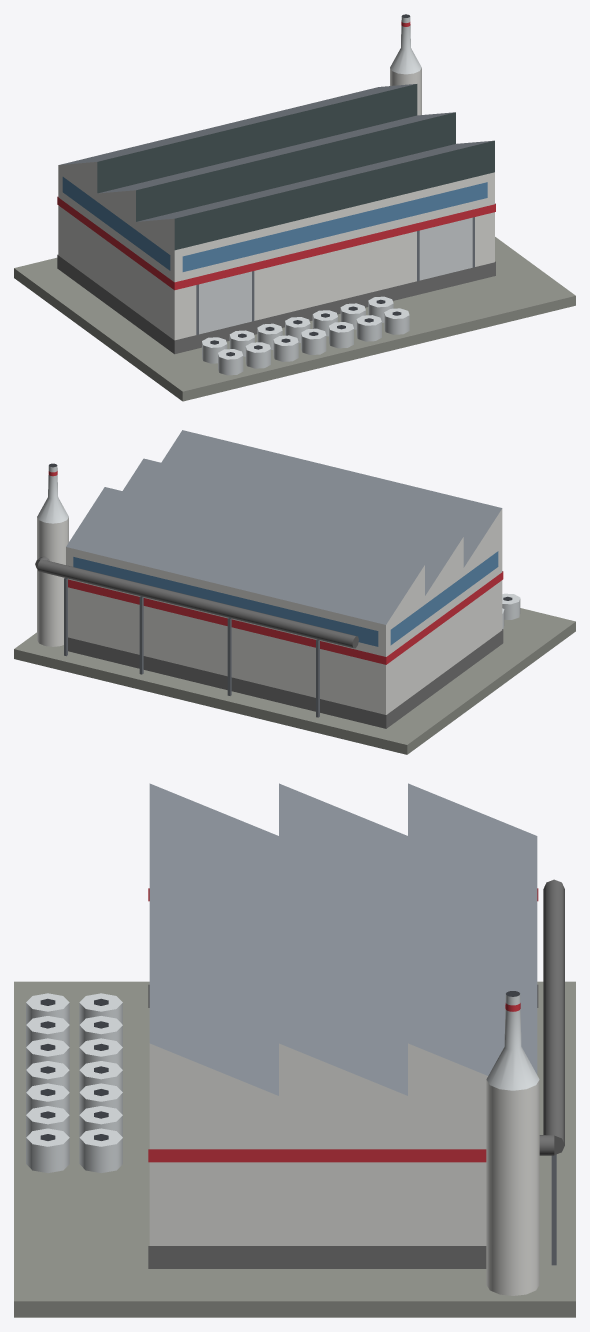
File: mashup-press-top-prebuilt.fbx
3 renders of one model, top to bottom at view 1: azimuth 30°, elevation 25°; view 2: azimuth 150°, elevation 25°; view 3: azimuth 270°, elevation 25°, orthographic. The views are drawn at different scales.
Visible parts, largest first — view 1: a1029/0/mashup-press-top-prebuilt; view 2: a1029/0/mashup-press-top-prebuilt; view 3: a1029/0/mashup-press-top-prebuilt.
Boxes of the visible parts, x1,y1,x2,y2 form: a1029/0/mashup-press-top-prebuilt: [14, 14, 575, 401]; a1029/0/mashup-press-top-prebuilt: [14, 430, 575, 754]; a1029/0/mashup-press-top-prebuilt: [14, 783, 575, 1317].
Bounding box in the file's own units: 31.2 × 14 × 23.2.
